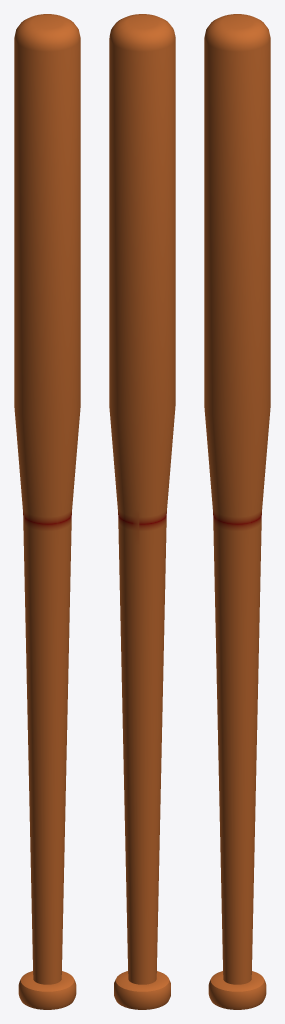
File: Bita.fbx
3 renders of one model, left to right at view 1: azimuth 90°, elevation 25°; view 2: azimuth 150°, elevation 25°; view 3: azimuth 270°, elevation 25°, orthographic.
Parts seen in each view (by area): view 1: Bita; view 2: Bita; view 3: Bita.
Boxes of the visible parts, x1=… form: Bita: x1=14, y1=14, x2=80, y2=1009; Bita: x1=109, y1=14, x2=175, y2=1009; Bita: x1=204, y1=14, x2=270, y2=1009.
Bounding box in the file's own units: 29.39 × 479 × 29.39.
Materials: 1 (1 with a texture image).
